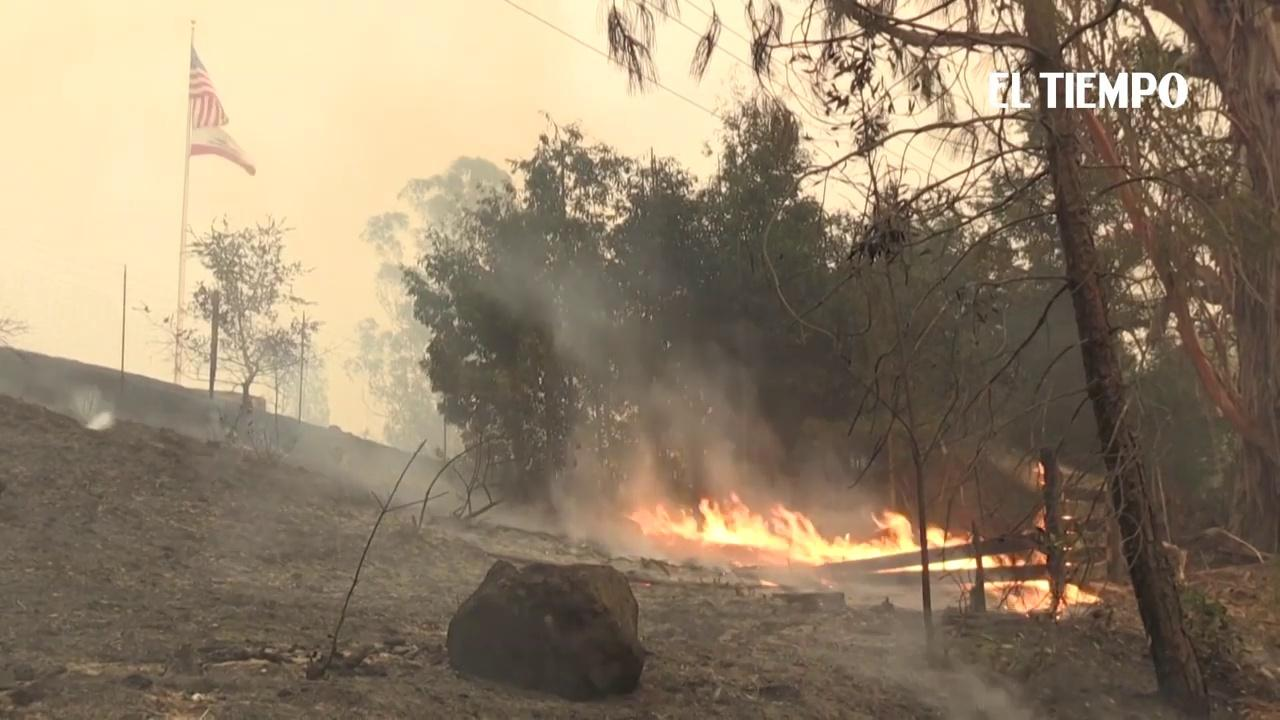Fire: (640, 495, 1003, 568), (992, 581, 1092, 611), (1029, 462, 1049, 487)
